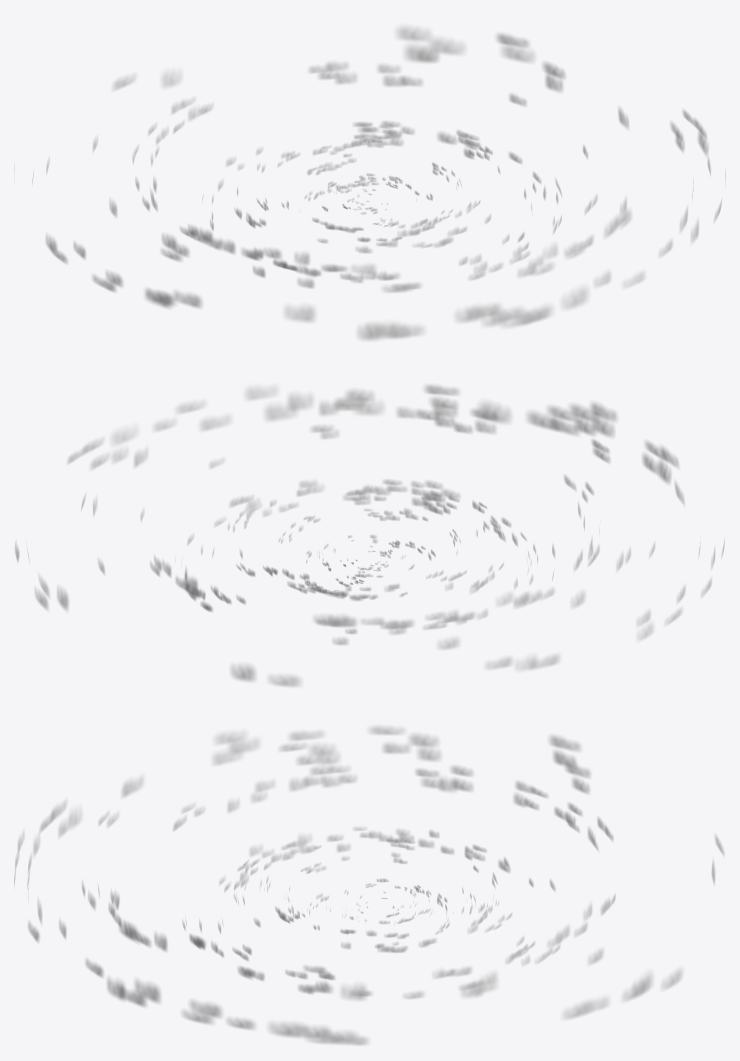
File: fog_valley_banks_v5_quads.glb
3 renders of one model, top to bottom at view 1: azimuth 30°, elevation 25°; view 2: azimuth 150°, elevation 25°; view 3: azimuth 270°, elevation 25°, orthographic. The views are drawn at different scales.
Visible parts, largest first — view 1: fog_S, fog_N, fog_W, fog_E; view 2: fog_S, fog_E, fog_N, fog_W; view 3: fog_W, fog_E, fog_S, fog_N.
Part boxes in pixels (x1=…): fog_S: x1=285, y1=194, x2=714, y2=340; fog_N: x1=97, y1=26, x2=458, y2=214; fog_W: x1=14, y1=138, x2=356, y2=315; fog_E: x1=382, y1=33, x2=725, y2=232; fog_S: x1=275, y1=384, x2=684, y2=571; fog_E: x1=15, y1=385, x2=353, y2=584; fog_N: x1=35, y1=553, x2=442, y2=686; fog_W: x1=377, y1=499, x2=724, y2=671; fog_W: x1=142, y1=725, x2=590, y2=898; fog_E: x1=121, y1=912, x2=628, y2=1045; fog_S: x1=14, y1=776, x2=367, y2=1000; fog_N: x1=392, y1=784, x2=724, y2=1001.
Size of the model in its own units: 3500 by 408 by 3403.
Materials: 1 (1 with a texture image).
